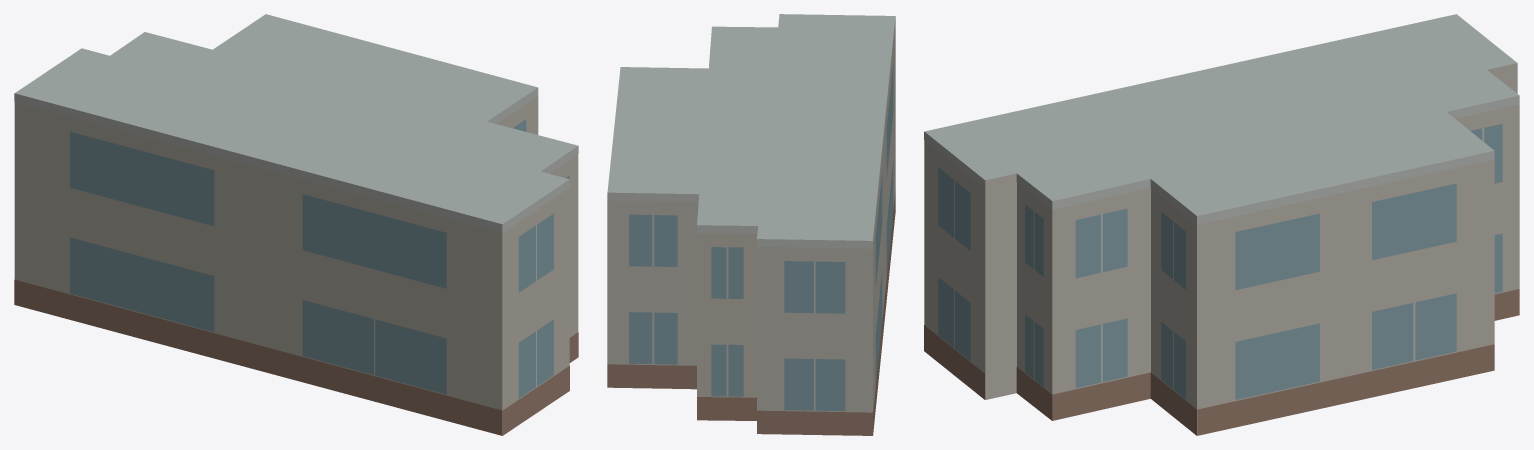
The model's file is survey-upis-32881609.glb.
The picture shows the model from 3 angles, left to right: view 1: azimuth 30°, elevation 25°; view 2: azimuth 150°, elevation 25°; view 3: azimuth 270°, elevation 25°; orthographic projection. The views are drawn at different scales.
Visible parts, largest first — view 1: survey-upis-32881609.tmp; view 2: survey-upis-32881609.tmp; view 3: survey-upis-32881609.tmp.
Boxes of the visible parts, left/top/right/bottom form: survey-upis-32881609.tmp: left=14, top=14, right=578, bottom=435; survey-upis-32881609.tmp: left=607, top=14, right=895, bottom=435; survey-upis-32881609.tmp: left=924, top=14, right=1519, bottom=435.
Bounding box in the file's own units: 12.04 × 6.1 × 14.99.
